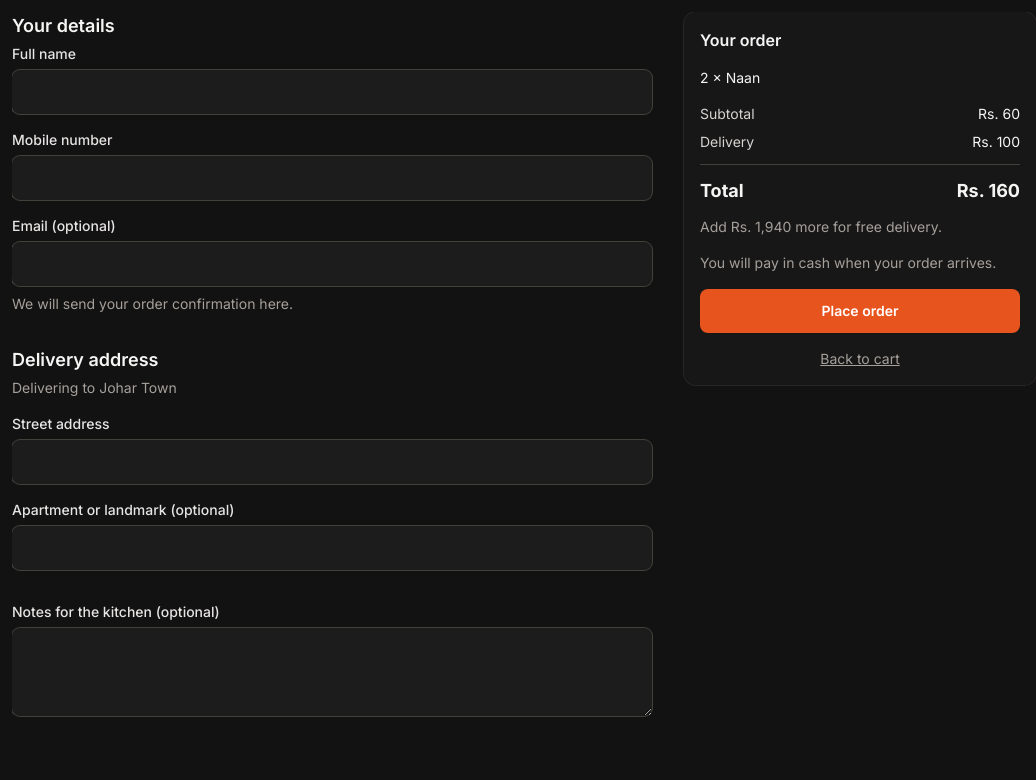
Scenario: checking the form › requires a street address for delivery
Expected: the field labelled "Street address" is shown, [12, 440, 652, 484]
Expected: the button "Place order" is enabled, [700, 289, 1020, 333]
Type "Ali Khan" into the field labelled "Full name". click: (332, 92)
box: [12, 70, 652, 114]
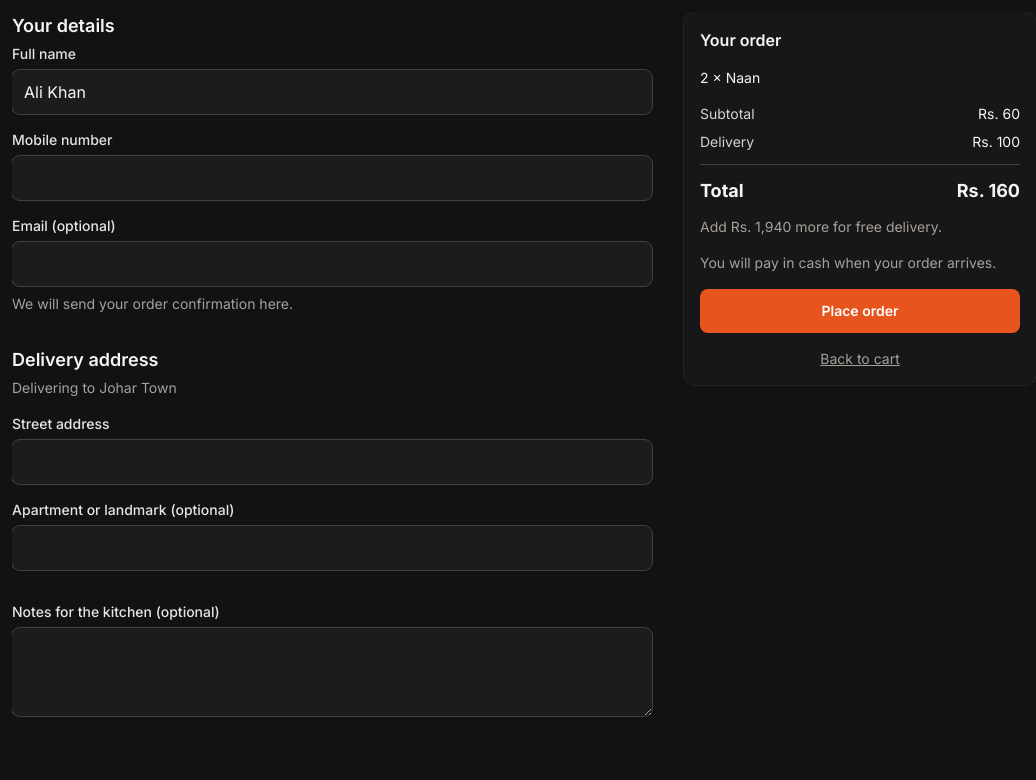
Type "0300-123 4567" into the field labelled "Mobile number". click: (332, 178)
box: [12, 156, 652, 200]
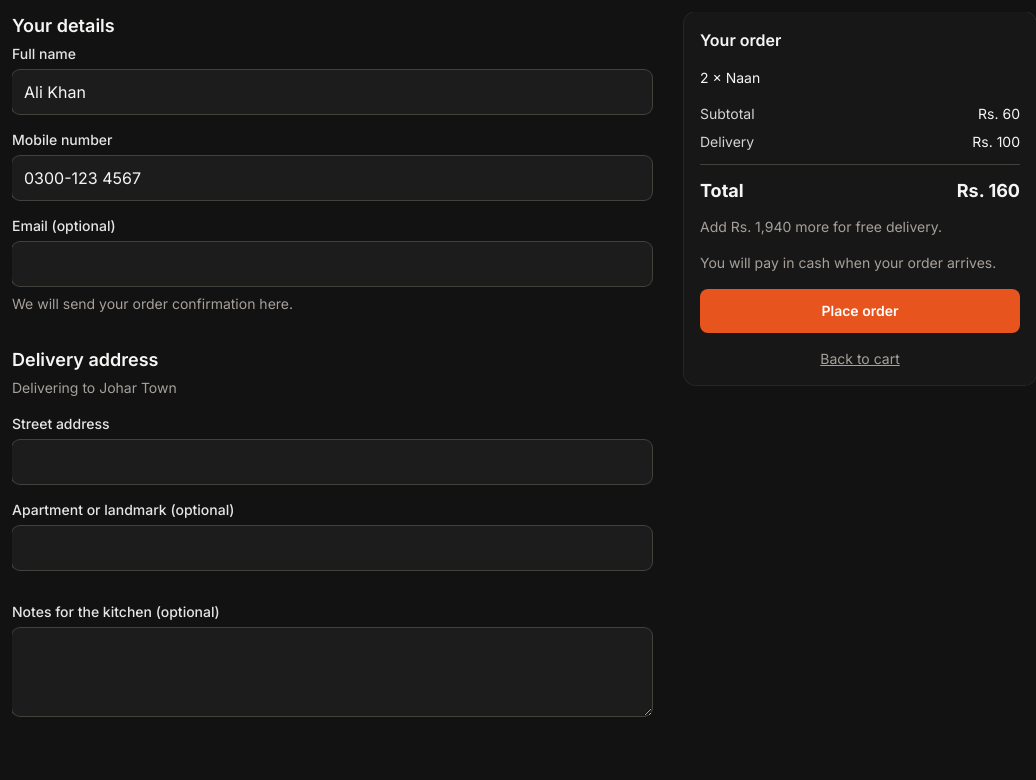
Click the button "Place order". click: (860, 311)
box: [700, 289, 1020, 333]
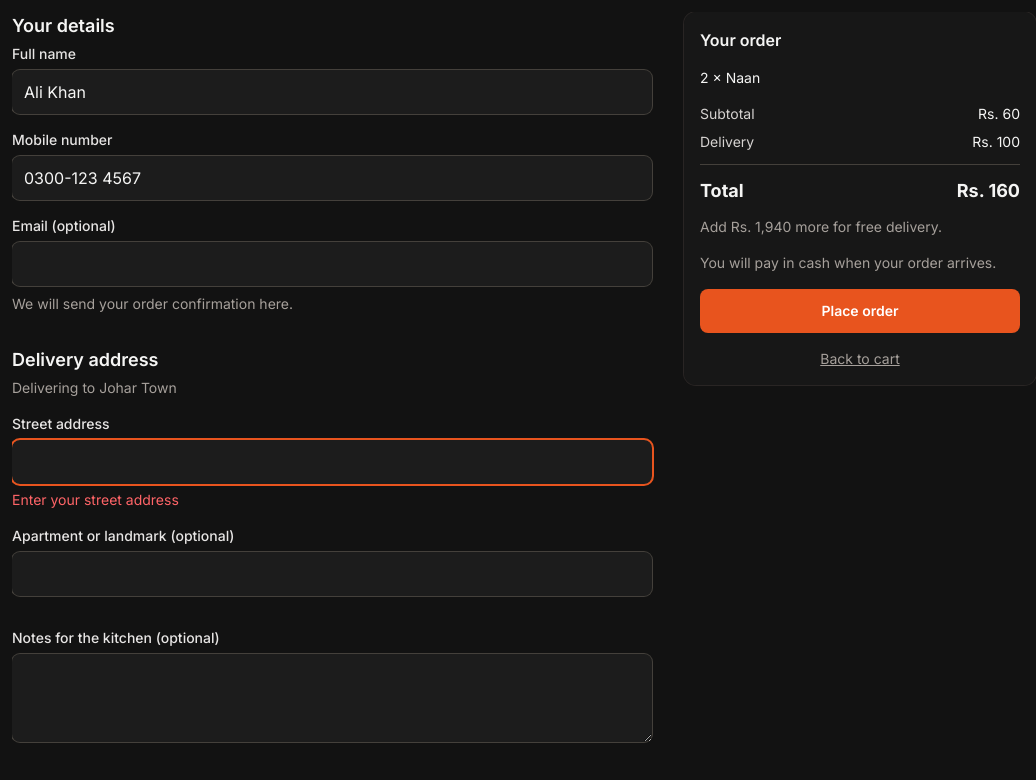
Now the text "Enter your street address" is shown, box [12, 491, 179, 508]
